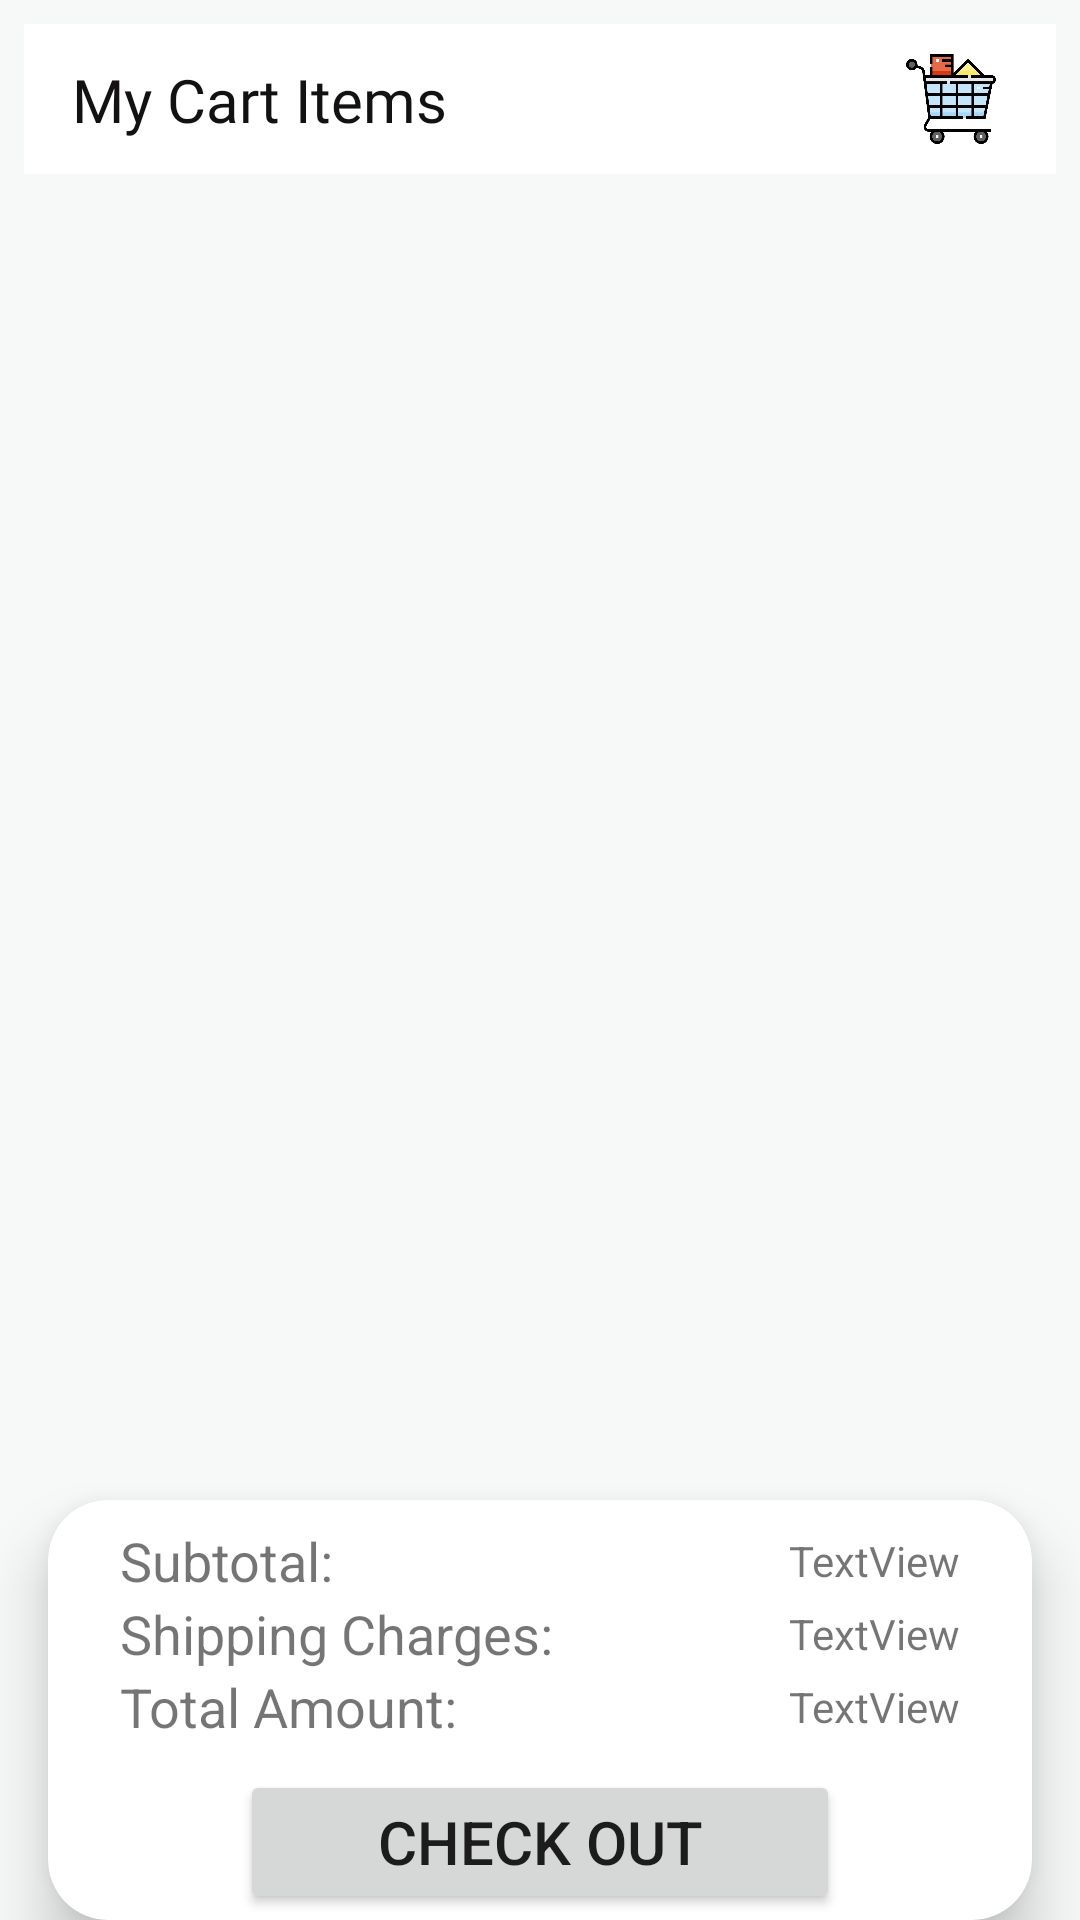

Locate icon controls on the screen. Image size 1080 × 1920, boxes as bbox=[x1, y1, x2, y2].
cart: bbox=[906, 54, 996, 144]
